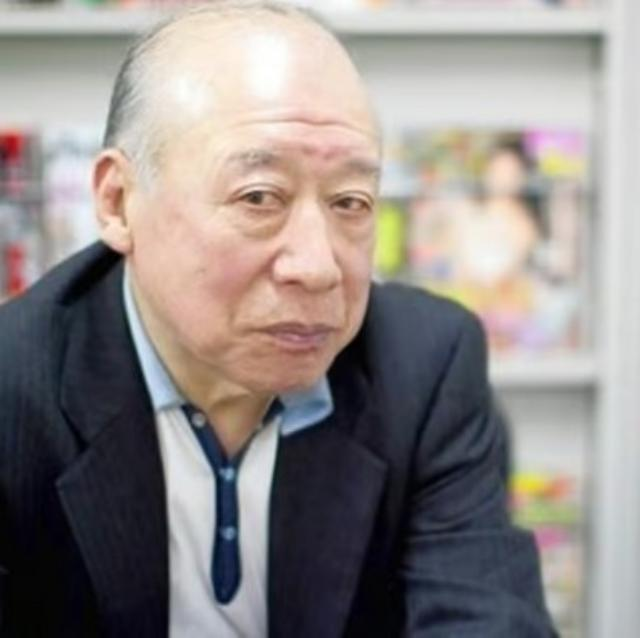forehead: (280, 100, 346, 136)
gummy_smile: (250, 243, 280, 281)
